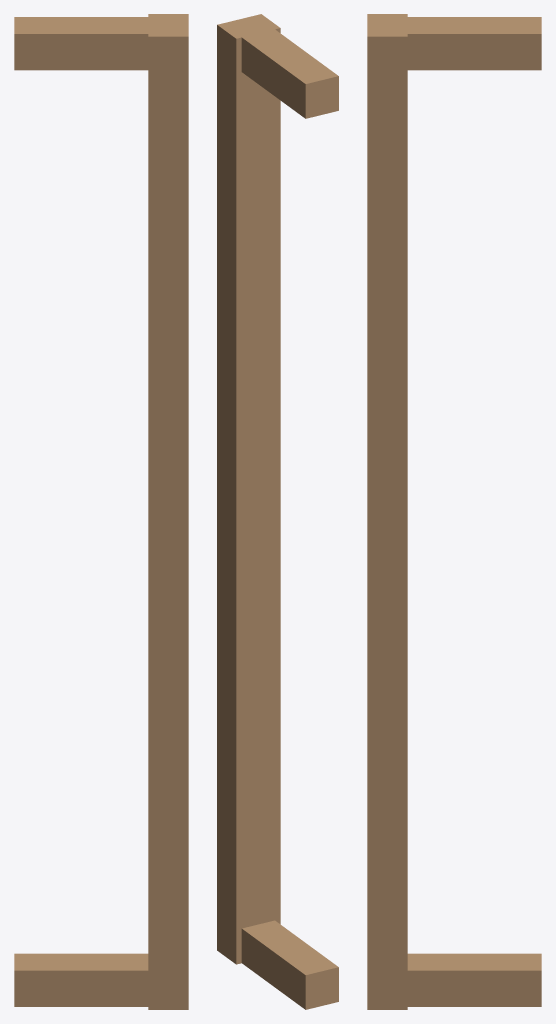
Rendered from hardware_handle_18.obj.
The picture shows the model from 3 angles, left to right: view 1: azimuth 90°, elevation 25°; view 2: azimuth 210°, elevation 25°; view 3: azimuth 270°, elevation 25°; orthographic projection. The views are drawn at different scales.
Parts seen in each view (by area): view 1: hardware_handle_18; view 2: hardware_handle_18; view 3: hardware_handle_18.
Boxes of the visible parts, x1,y1,x2,y2 form: hardware_handle_18: (14, 14, 188, 1009); hardware_handle_18: (217, 14, 338, 1009); hardware_handle_18: (367, 14, 541, 1009).
Bounding box in the file's own units: 12.7 × 254 × 41.28.
